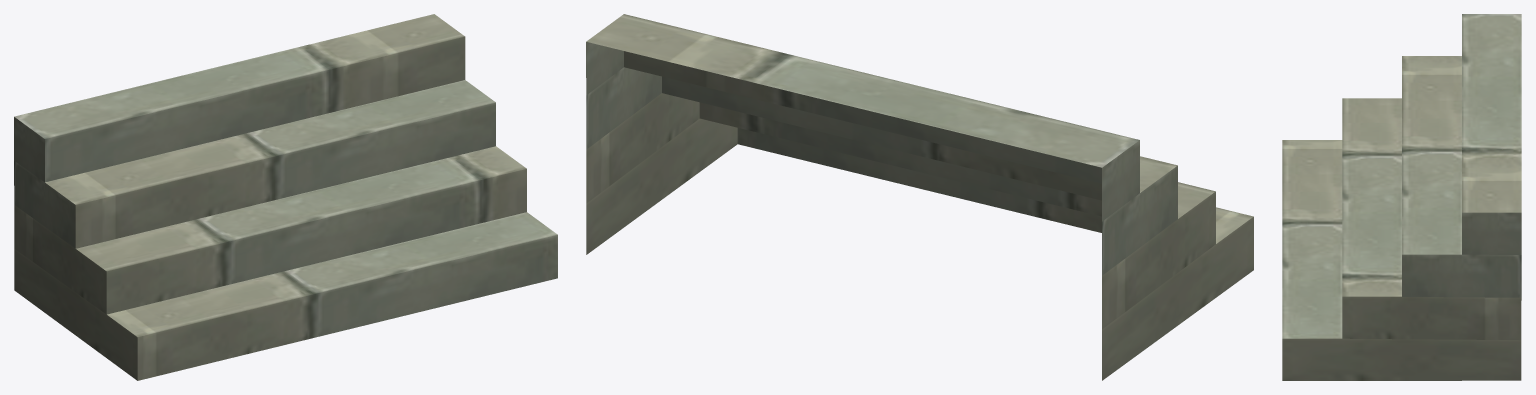
File: szc_building_dimian_quyu03_03.FBX
3 renders of one model, left to right at view 1: azimuth 30°, elevation 25°; view 2: azimuth 150°, elevation 25°; view 3: azimuth 270°, elevation 25°, orthographic. The views are drawn at different scales.
Visible parts, largest first — view 1: szc_building_dimian_quyu03_03; view 2: szc_building_dimian_quyu03_03; view 3: szc_building_dimian_quyu03_03.
Part boxes in pixels (x1=…): szc_building_dimian_quyu03_03: x1=14, y1=14, x2=557, y2=380; szc_building_dimian_quyu03_03: x1=586, y1=14, x2=1253, y2=380; szc_building_dimian_quyu03_03: x1=1282, y1=14, x2=1521, y2=380.
Size of the model in its own units: 216 by 85.35 by 110.
